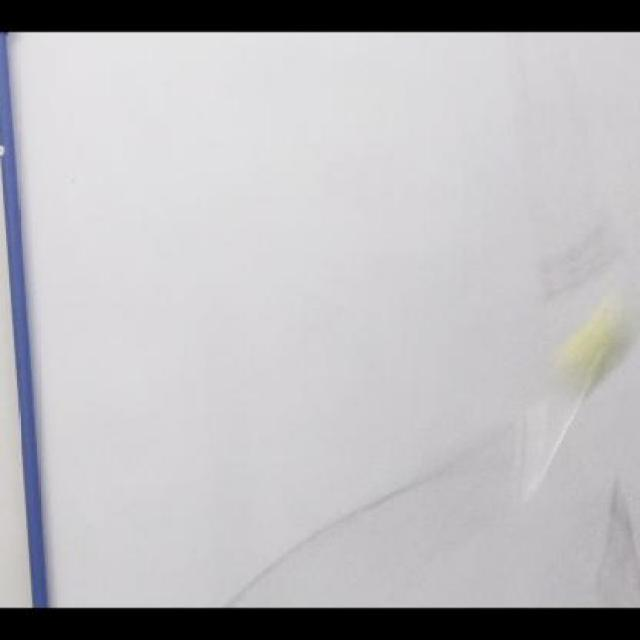baseball: (564, 307, 627, 402)
